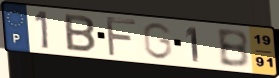1: (32, 10, 51, 51), (184, 26, 201, 64)
B: (215, 28, 252, 70), (63, 12, 98, 55)
F: (104, 15, 139, 59)
G: (140, 21, 174, 61)
